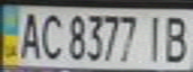3: (84, 11, 106, 62)
7: (118, 11, 142, 63), (103, 11, 121, 62)
8: (63, 11, 87, 62)
A: (15, 9, 45, 61)
B: (157, 12, 193, 63)
C: (36, 10, 66, 61)
I: (139, 11, 169, 63)
